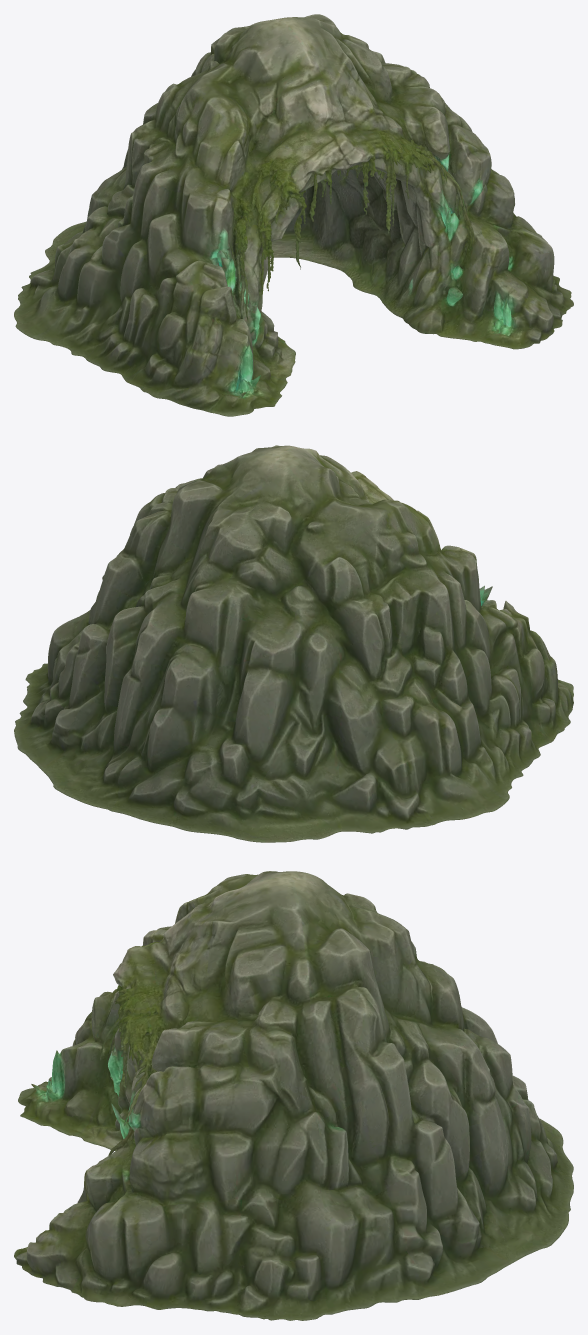
Rendered from Meshy_AI_cave_entrance_0823030744_image-to-3d-texture.glb.
3 renders of one model, top to bottom at view 1: azimuth 30°, elevation 25°; view 2: azimuth 150°, elevation 25°; view 3: azimuth 270°, elevation 25°, orthographic. The views are drawn at different scales.
Bounding box in the file's own units: 1.9 × 1.02 × 1.68.
1 material, 1 textured.
